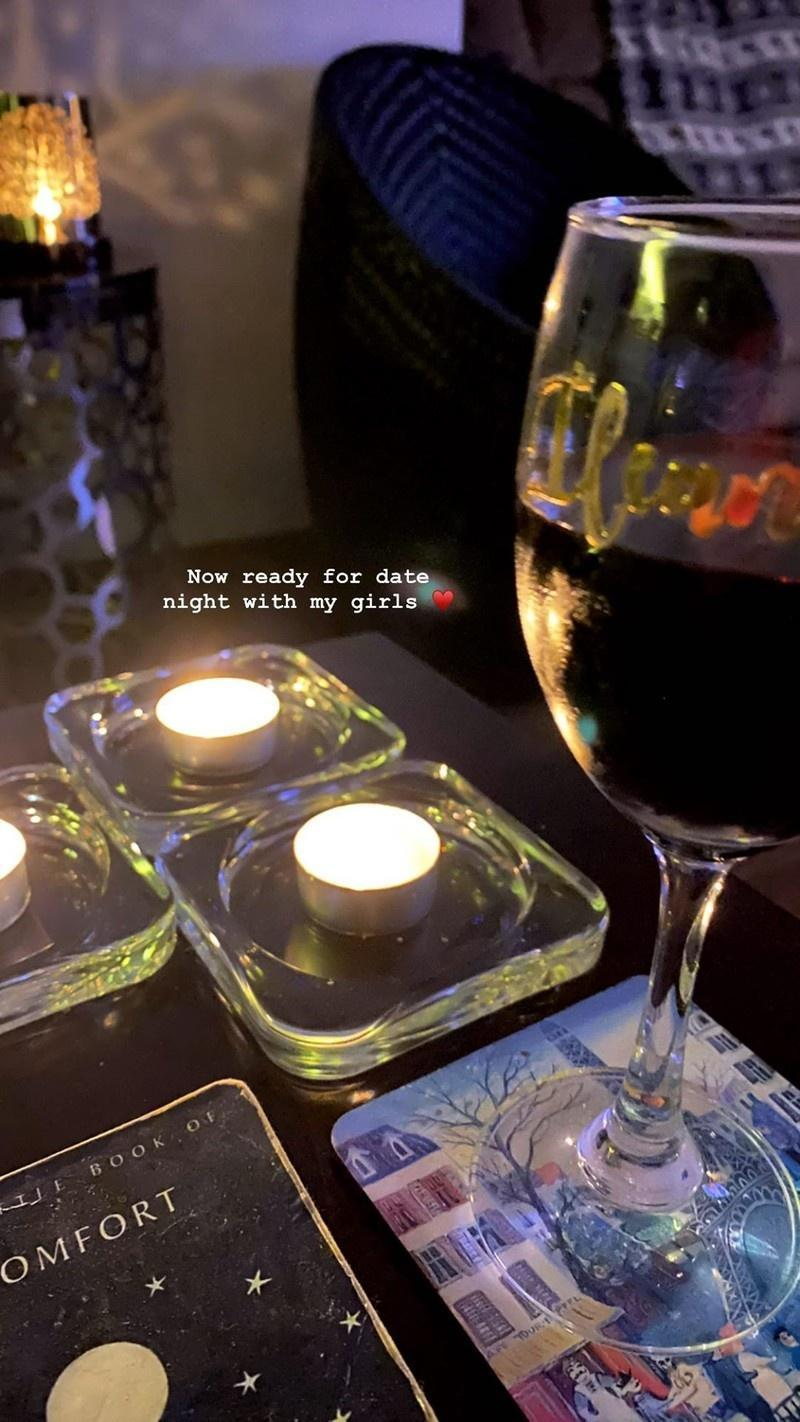glass-wine: (493, 193, 800, 1327)
